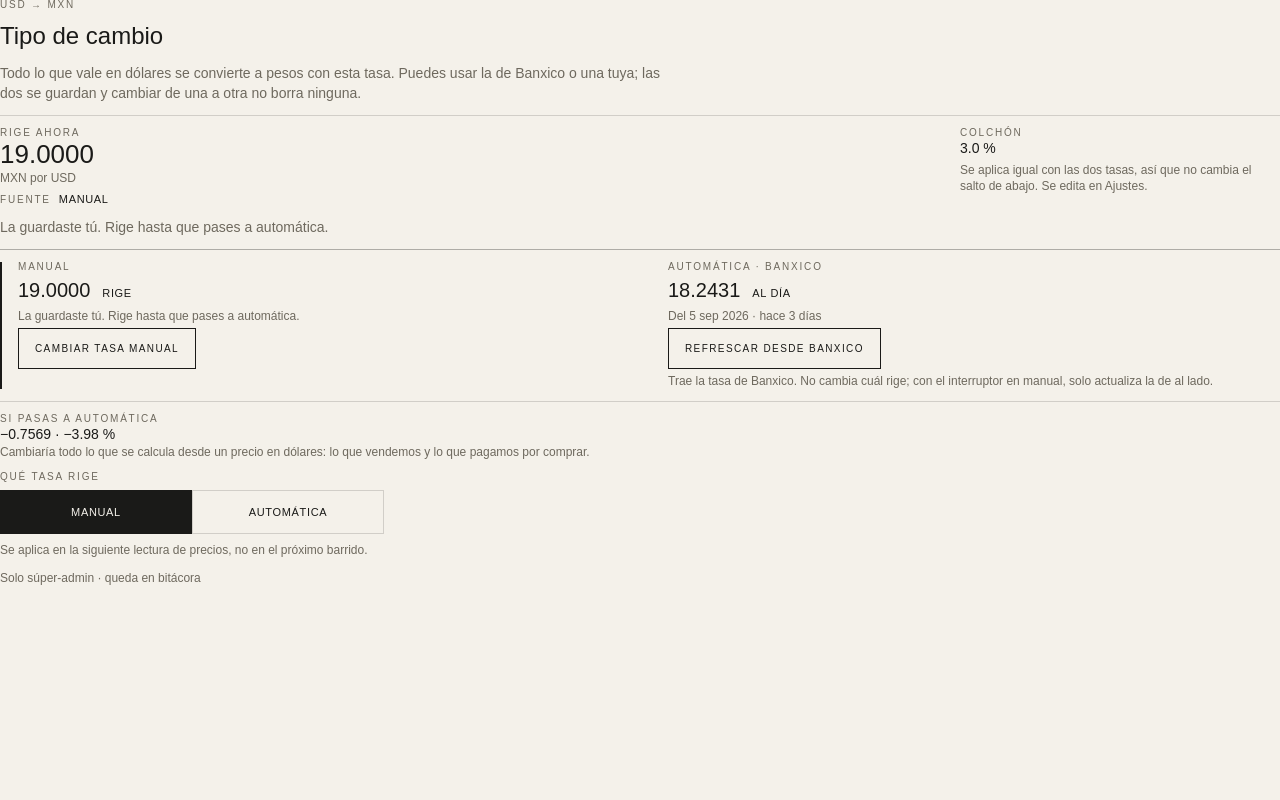
Scenario: FX-UI-5 ⭐ · el modo NO se pinta optimista › con el diálogo abierto la selección no se ha movido, y cancelar no manda nada
Click the radio button labelled "AUTOMÁTICA".
click(288, 512)  # box [192,490,384,534]
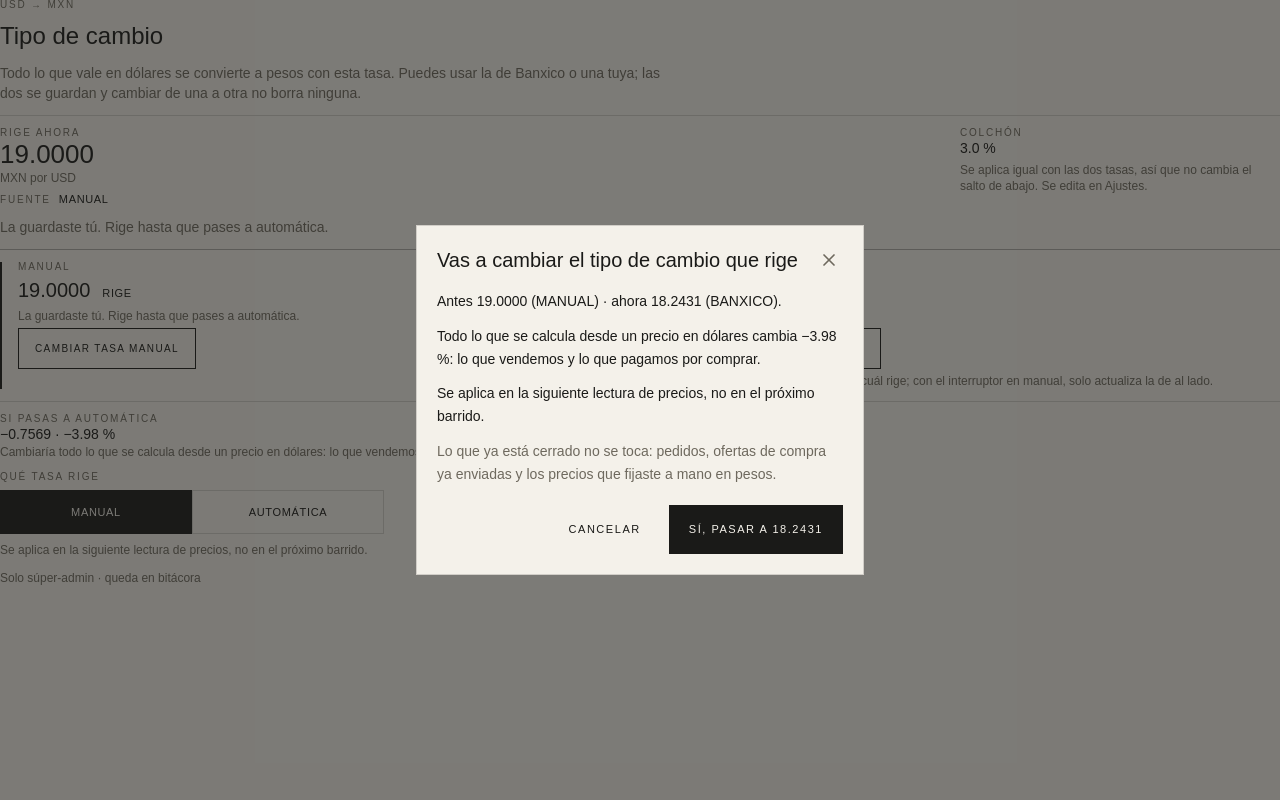
Expected: the text with test id "fx-current" reads "19.0000", [0,139,94,169]
Now the dialog is shown, box [416,225,864,575]
Click the button "Cancelar".
click(605, 530)  # box [548,505,661,554]
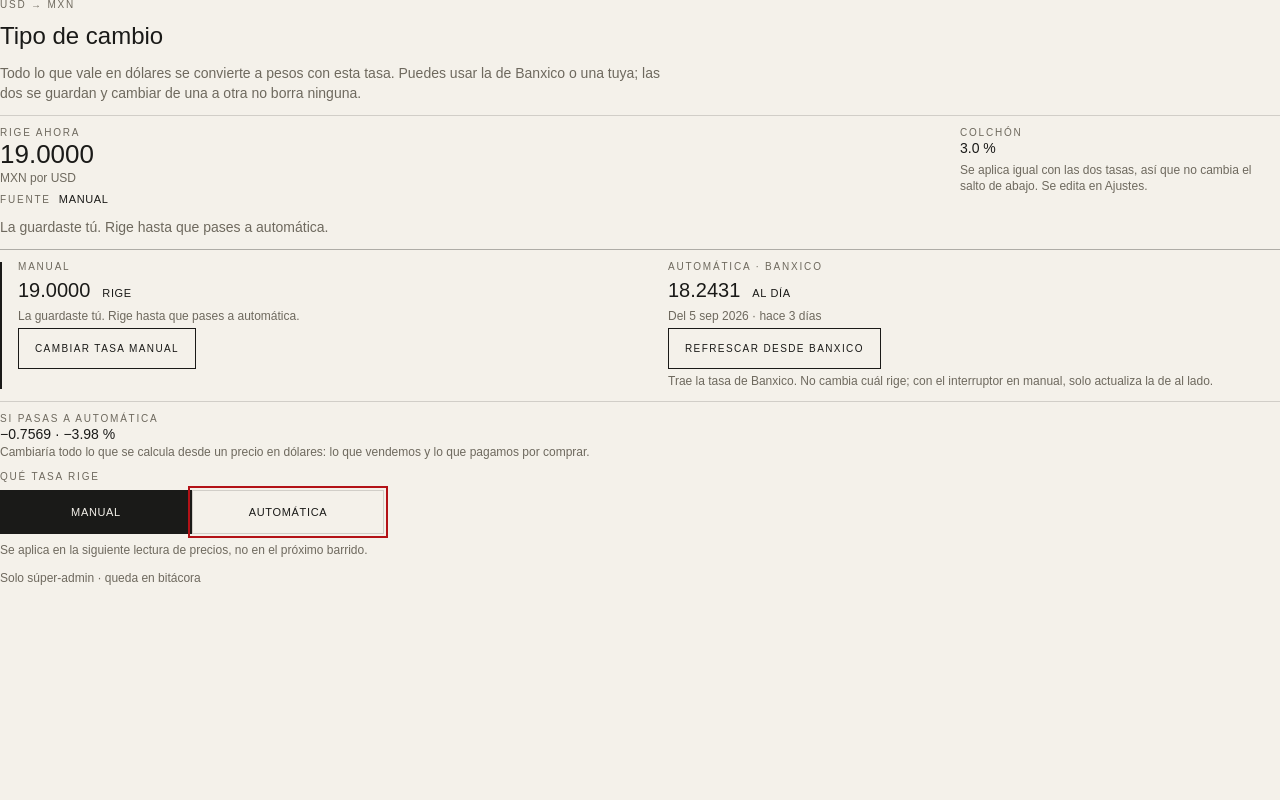
Now the dialog is gone
